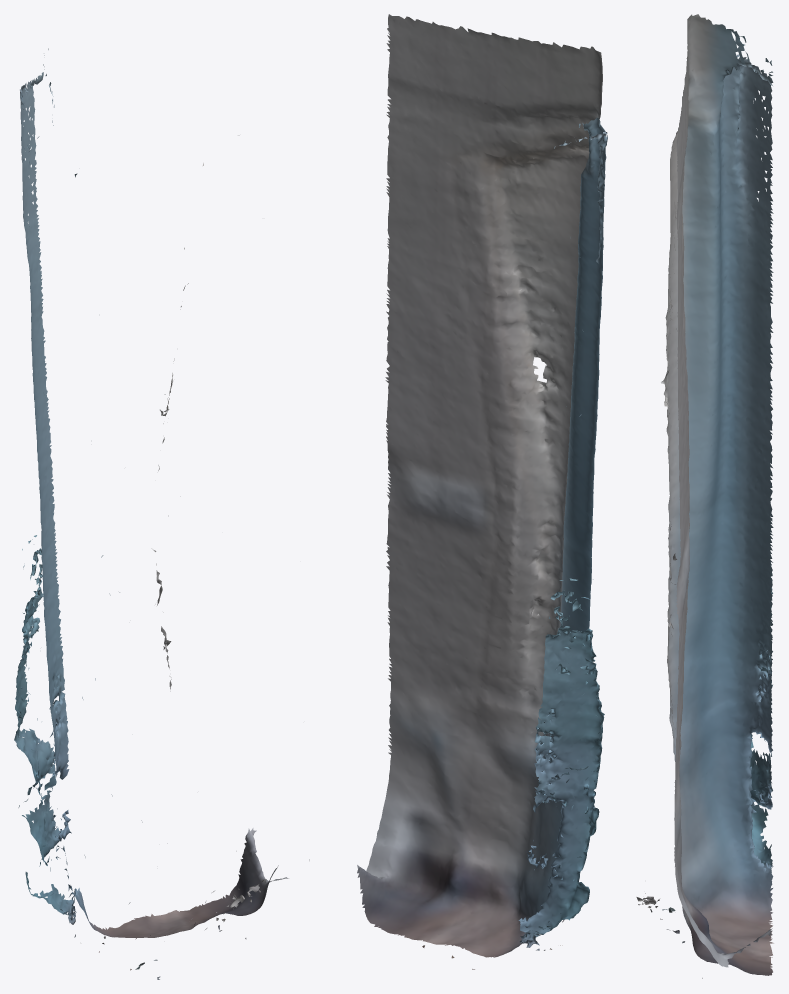
File: apartment-full-17-70b9afbd2a65.glb
3 renders of one model, left to right at view 1: azimuth 30°, elevation 25°; view 2: azimuth 150°, elevation 25°; view 3: azimuth 270°, elevation 25°, orthographic. The views are drawn at different scales.
Size of the model in its own units: 0.594 by 2.07 by 0.288.
